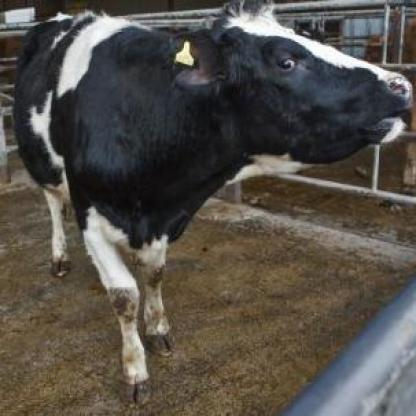cow: (12, 0, 415, 407)
